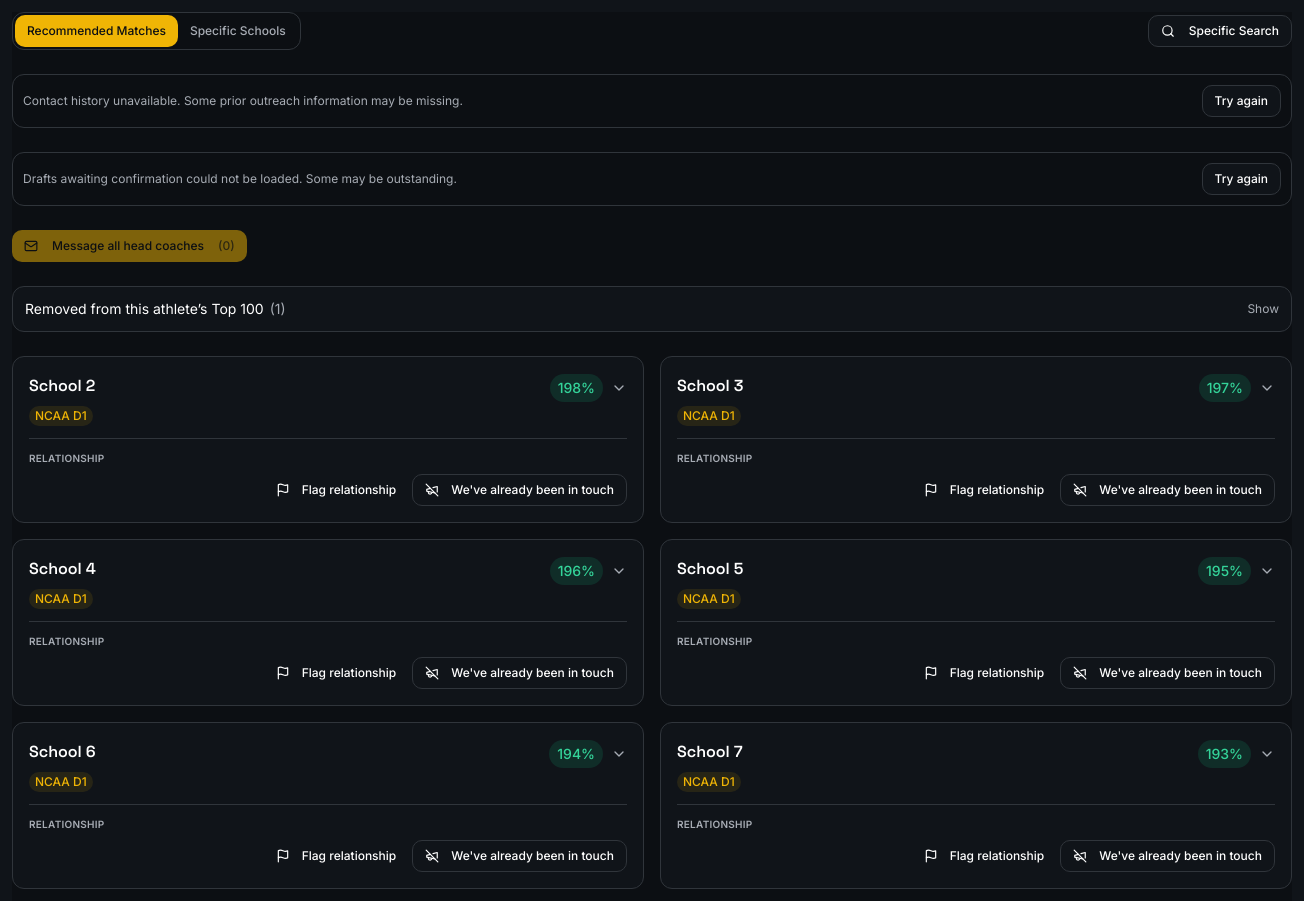
Test: Keep in / Remove from Top 100 › brings the school back into the actionable list once restored
Click the button "Removed from this athlete’s Top 100(1) Show" at (144, 308), box [25, 299, 1279, 319]
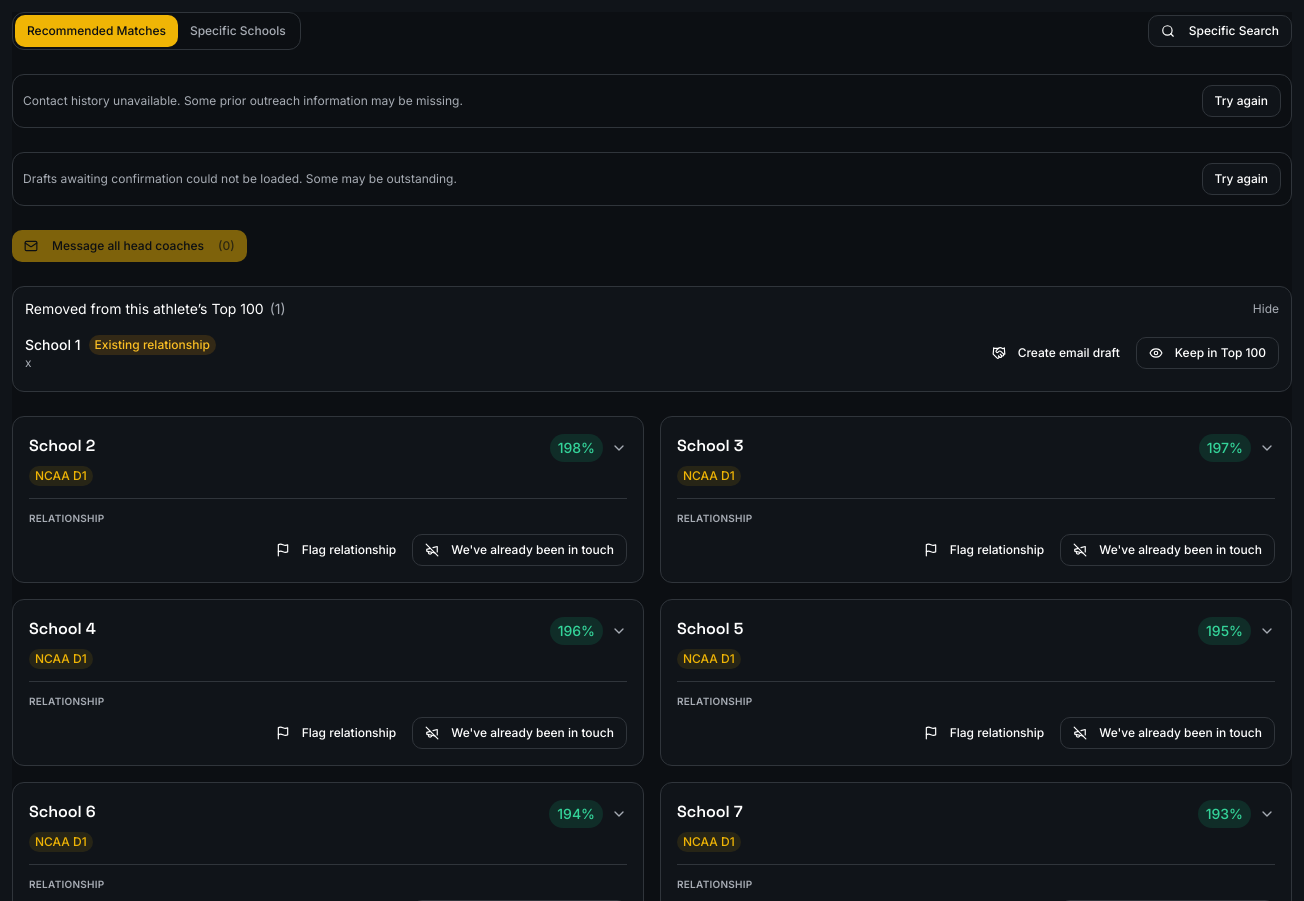
Click the button "Keep in Top 100" at (1207, 353), box [1136, 337, 1279, 369]
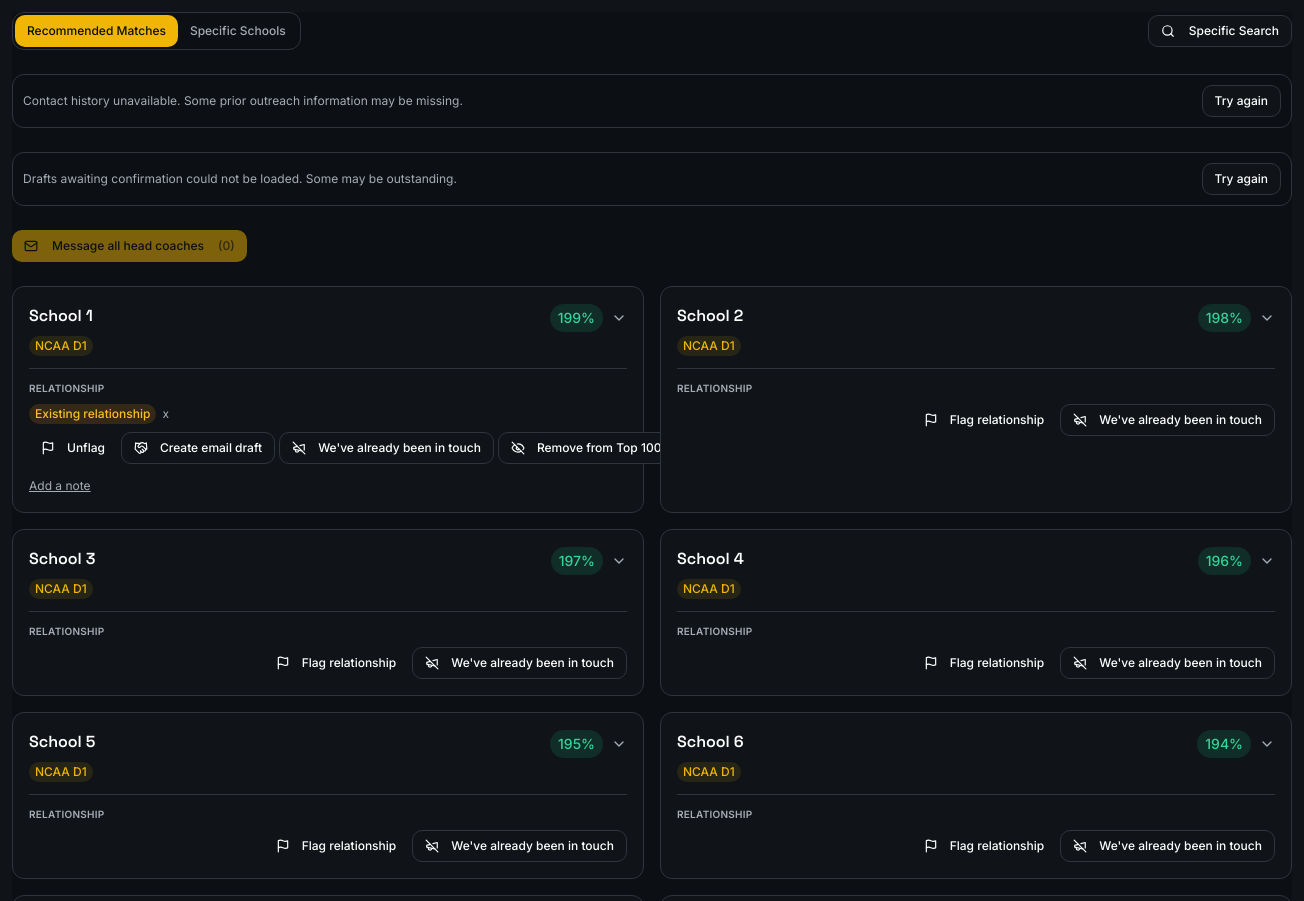
Expected: the element with test id "programme-relationship" shows "School 1", [29, 304, 627, 356]
